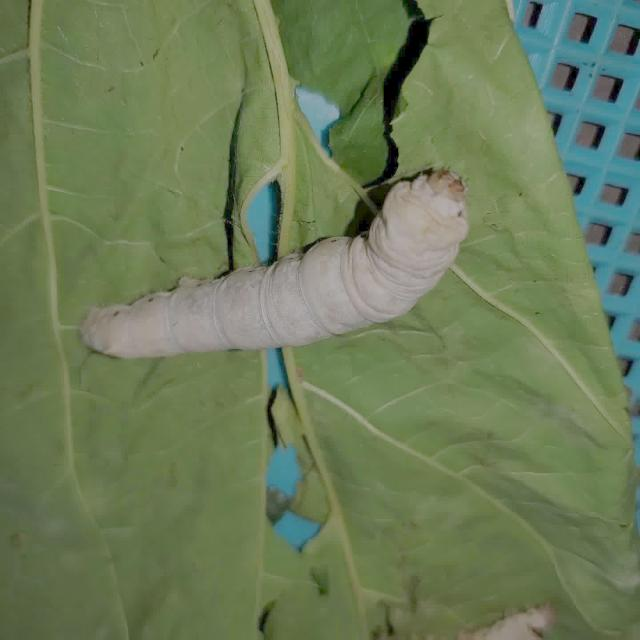Grasserie: (71, 146, 471, 374)
